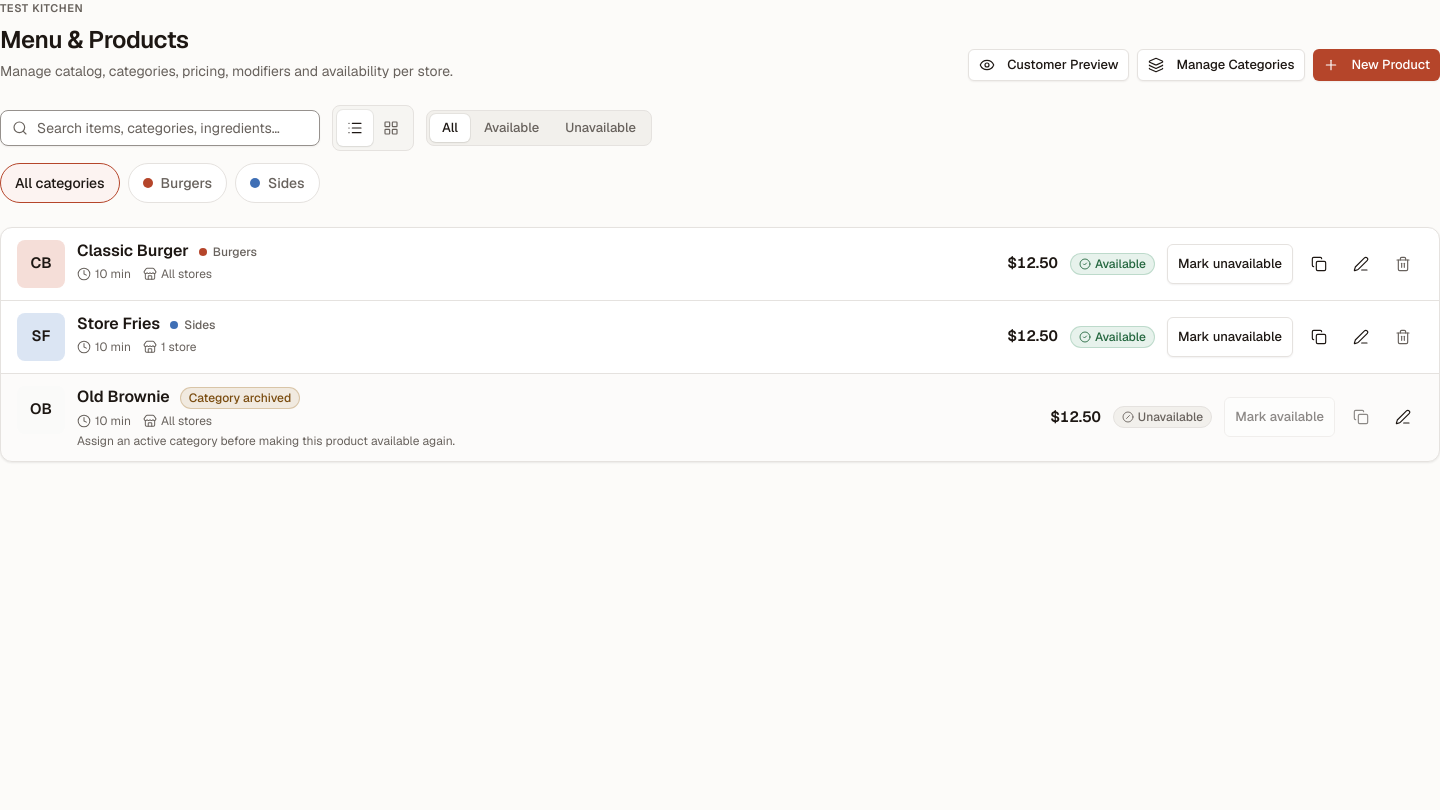
Test: owner: category lifecycle › refuses a new category that would overwrite an active one or revive an archived one
expect the heading "Classic Burger" is shown: met, box [77, 240, 189, 262]
Step 1. Click the button "Manage Categories" → (1221, 64), box [1138, 48, 1305, 80]
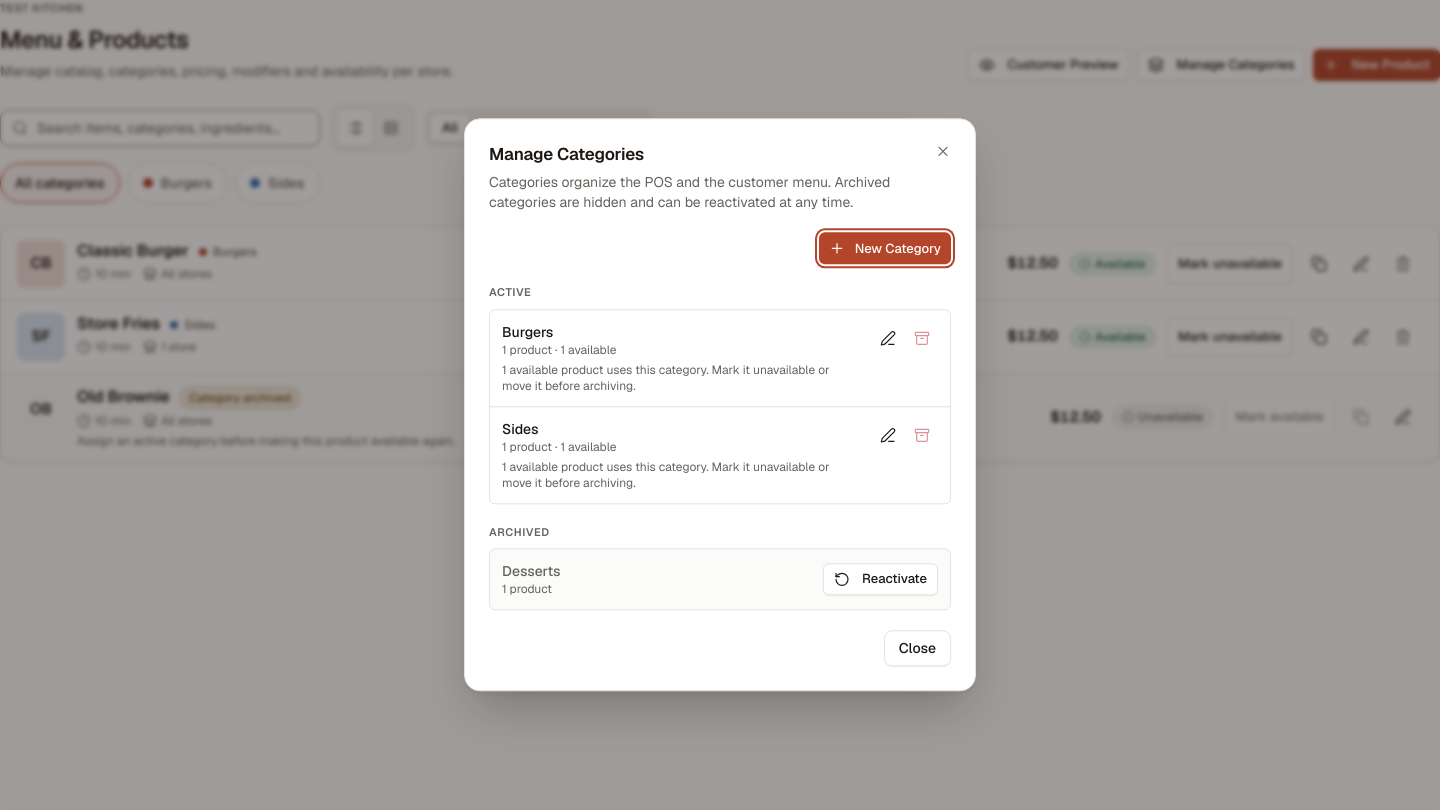
Step 2. Click the button "New Category" → (885, 249), box [819, 233, 951, 265]
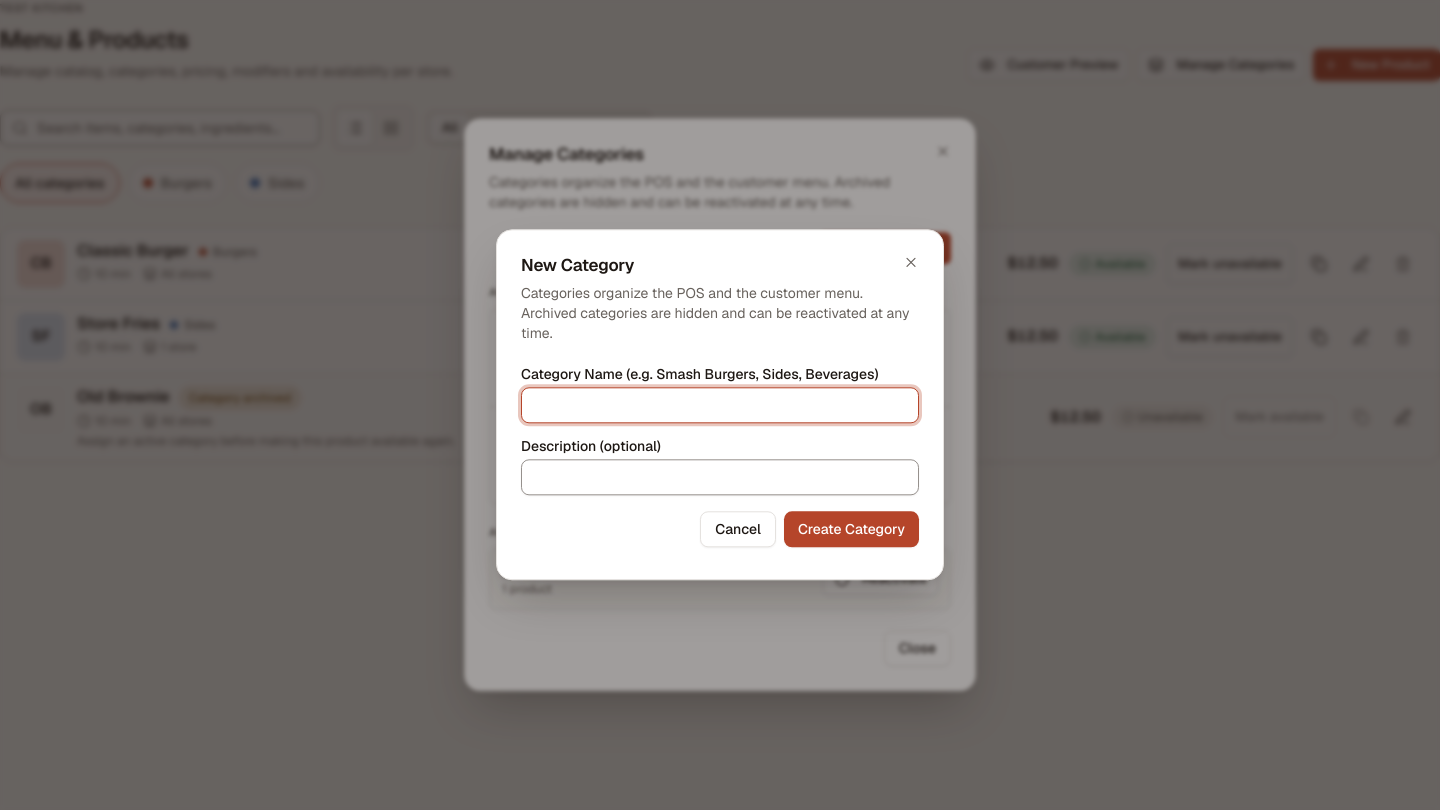
Step 3. Type "burgers" into the field labelled "Category Name (e.g. Smash Burgers, Sides, Beverages)" → (720, 406), box [521, 388, 919, 424]
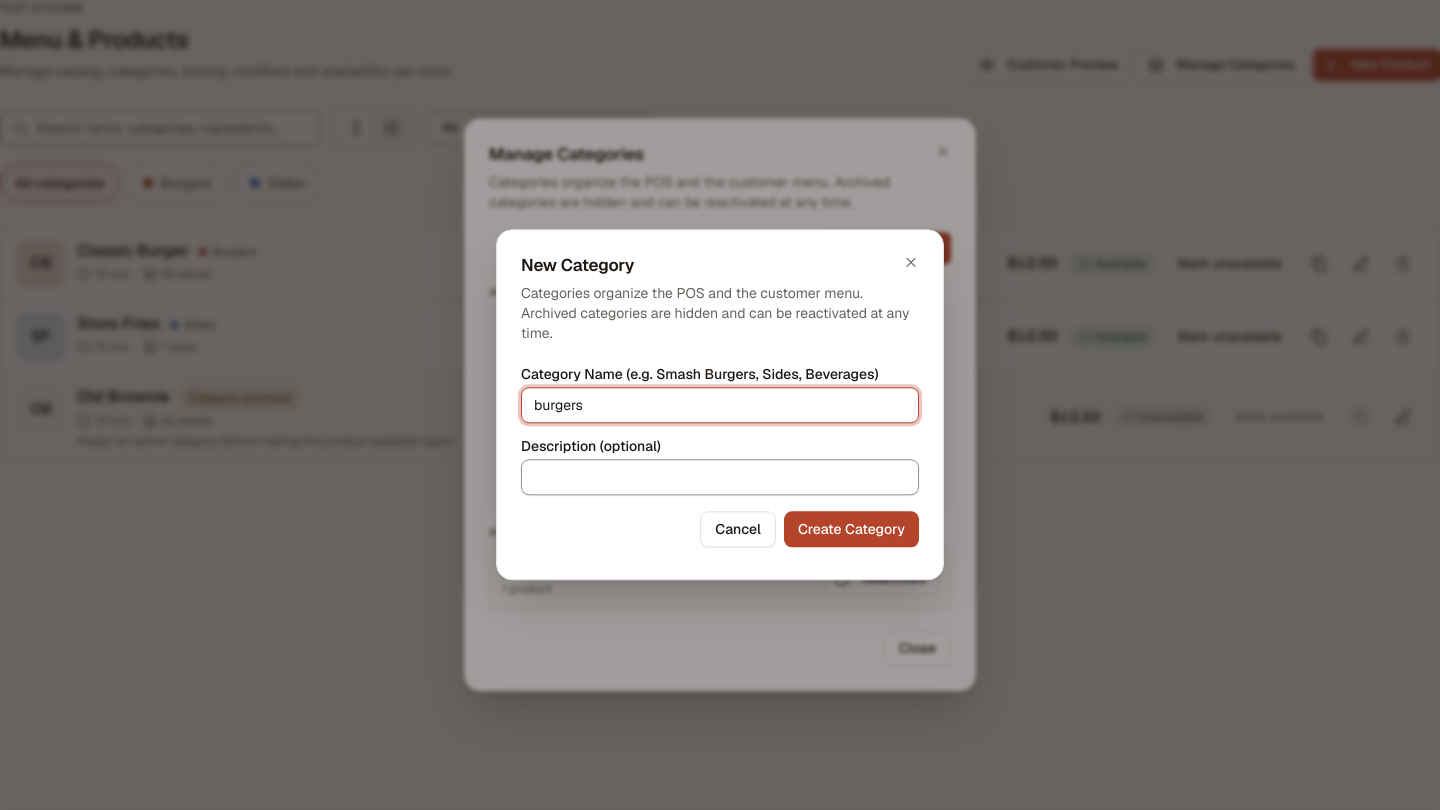
Step 4. Click the button "Create Category" → (851, 530), box [784, 512, 919, 548]
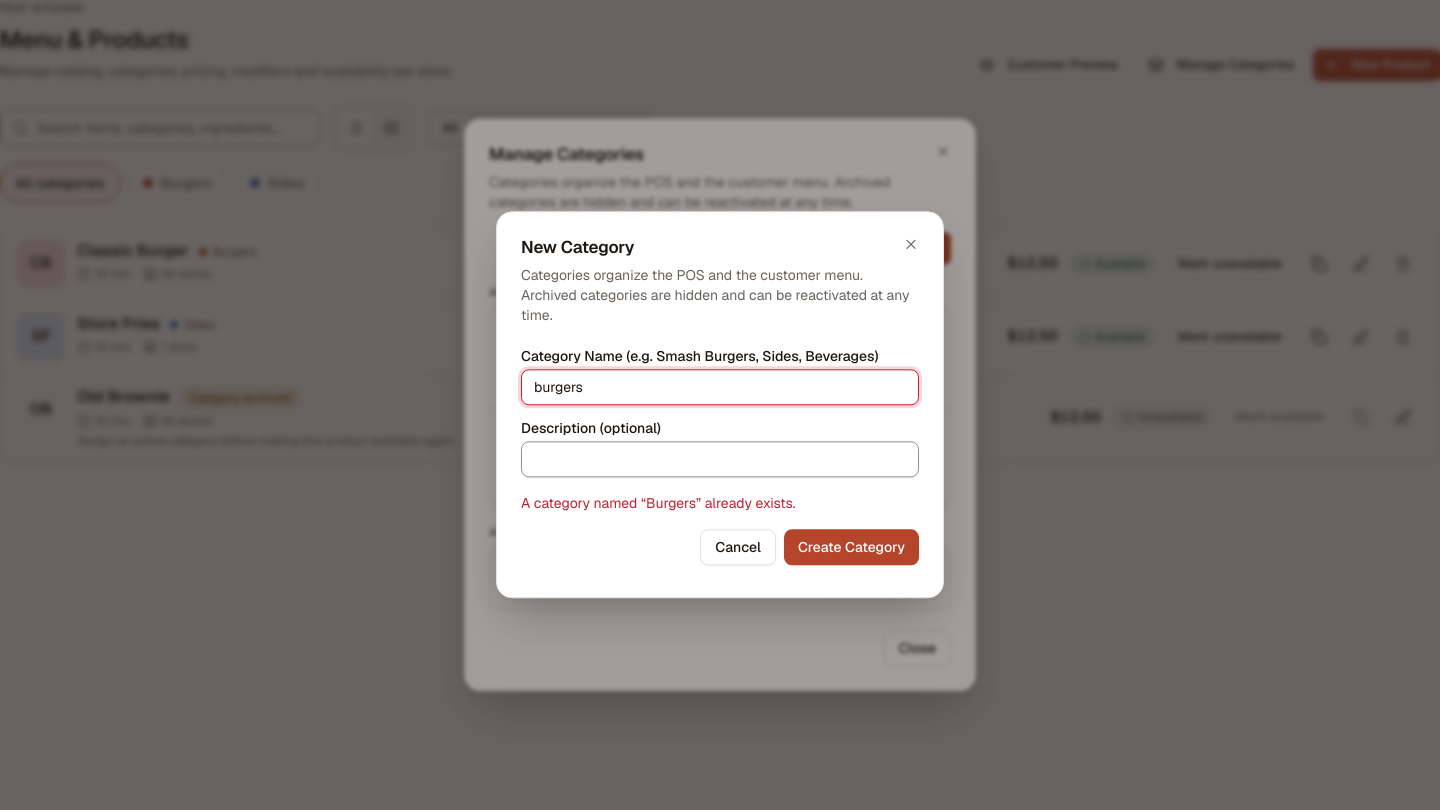
expect the message reads "A category named “Burgers” already exists.": met, box [521, 495, 796, 513]
Step 5. Replace the text in the field labelled "Category Name (e.g. Smash Burgers, Sides, Beverages)" with "Desserts" → (720, 388), box [521, 370, 919, 406]
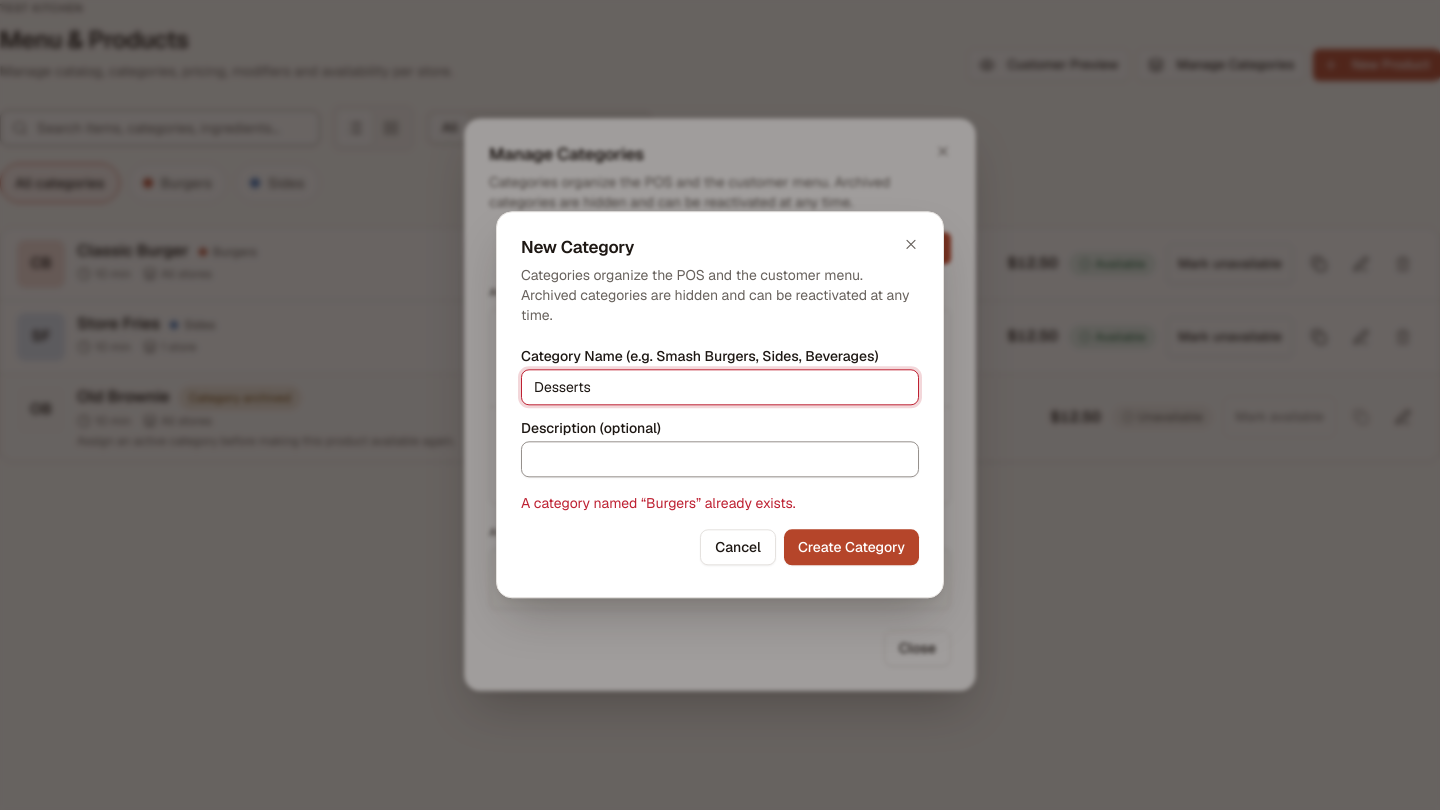
Step 6. Click the button "Create Category" → (851, 548), box [784, 530, 919, 566]
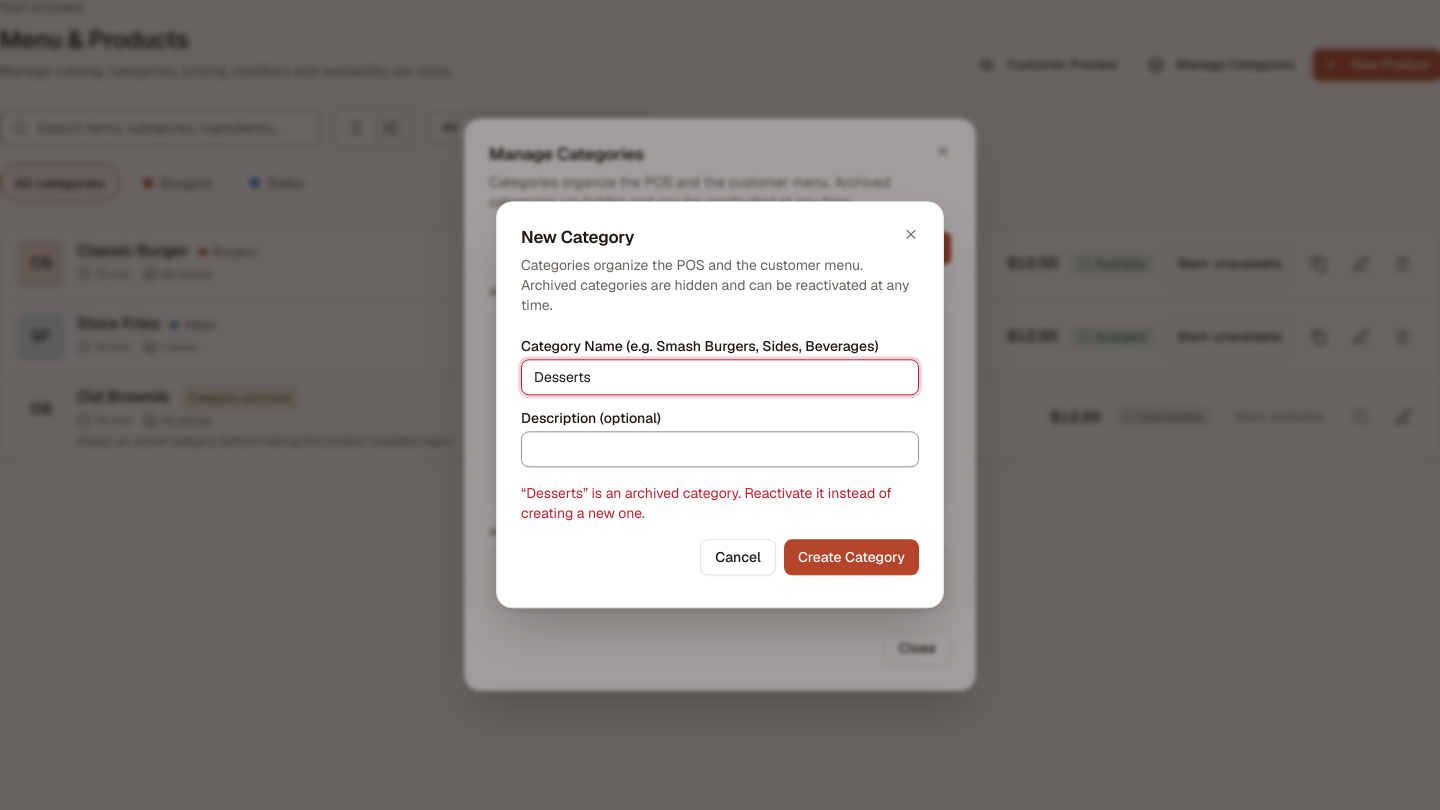
expect the message shows "Reactivate it instead": met, box [521, 485, 892, 523]
